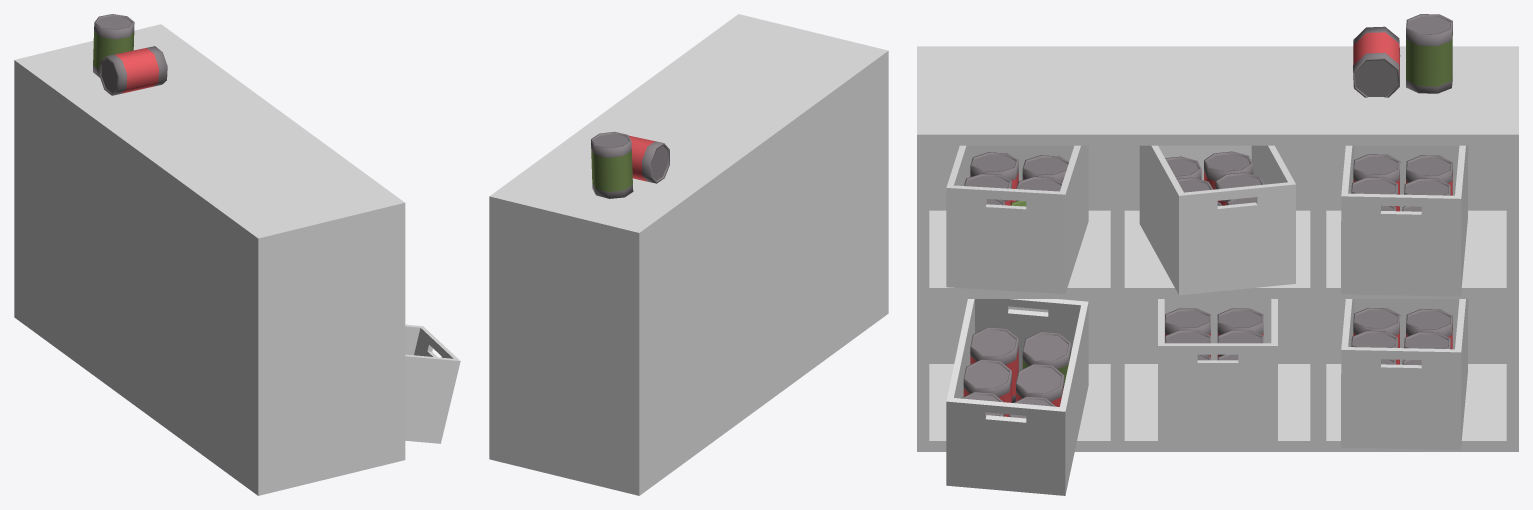
Rendered from Food Station.fbx.
The picture shows the model from 3 angles, left to right: view 1: azimuth 30°, elevation 25°; view 2: azimuth 150°, elevation 25°; view 3: azimuth 270°, elevation 25°; orthographic projection. The views are drawn at different scales.
Parts seen in each view (by area): view 1: Cube.008, Cube.013, Cylinder.045, Cylinder.046; view 2: Cube.008, Cylinder.046, Cylinder.045; view 3: Cube.008, Cube.011, Cube.013, Cube.012, Cube.015, Cube.014, Cube.010, Cylinder.046, Cylinder.045, Cylinder.029, Cylinder.027, Cylinder.032 (+15 smaller).
Boxes of the visible parts, x1,y1,x2,y2 form: Cube.008: [14, 24, 405, 495]; Cube.013: [405, 324, 460, 443]; Cylinder.045: [99, 46, 167, 95]; Cylinder.046: [93, 14, 134, 77]; Cube.008: [489, 14, 888, 495]; Cylinder.046: [591, 131, 633, 198]; Cylinder.045: [629, 135, 669, 183]; Cube.008: [917, 46, 1518, 451]; Cube.011: [1139, 145, 1295, 295]; Cube.013: [946, 299, 1088, 495]; Cube.012: [946, 145, 1088, 293]; Cube.015: [1341, 145, 1468, 296]; Cube.014: [1341, 299, 1468, 450]; Cube.010: [1158, 299, 1277, 445]; Cylinder.046: [1406, 14, 1452, 93]; Cylinder.045: [1353, 26, 1400, 97]; Cylinder.029: [970, 327, 1018, 402]; Cylinder.027: [963, 359, 1011, 416]; Cylinder.032: [1022, 331, 1070, 384].
Bounding box in the file's own units: 107 × 142 × 200.
